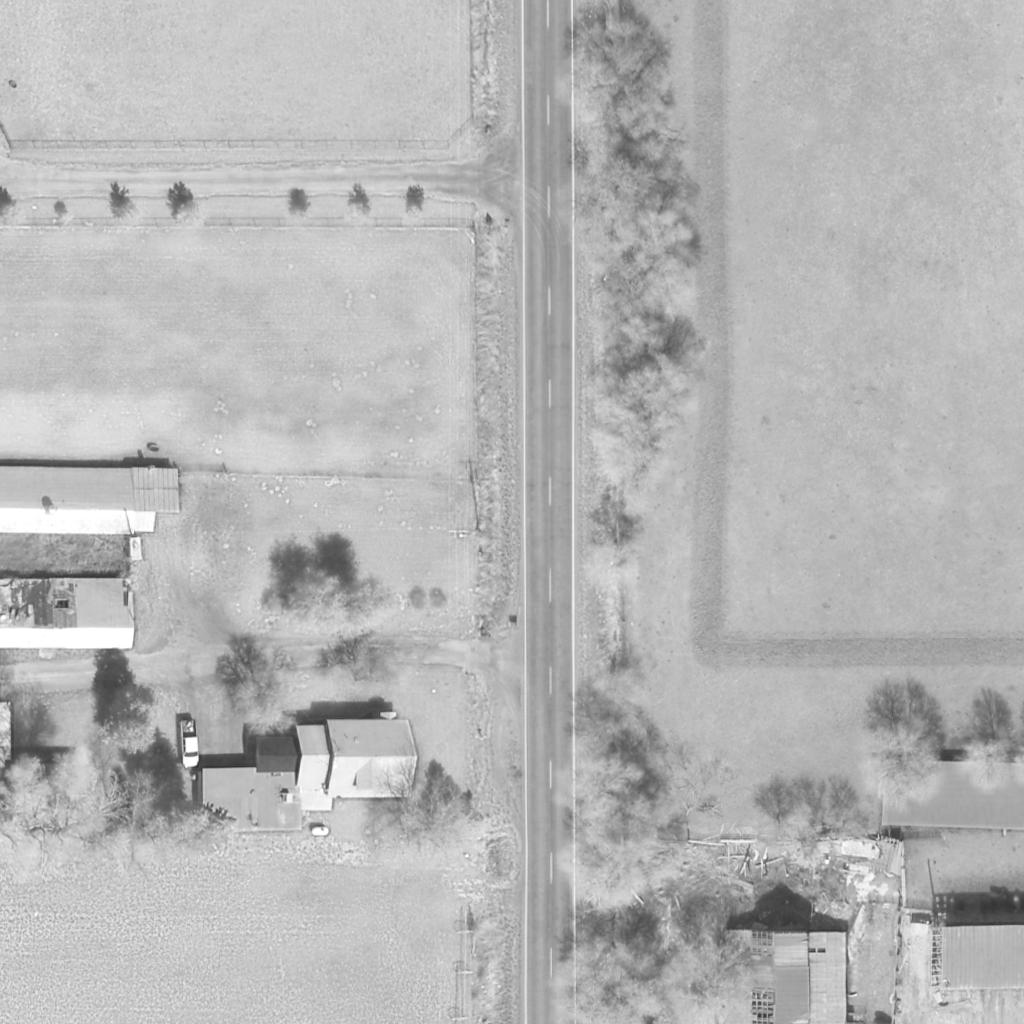vehicle: (179, 720, 201, 768)
